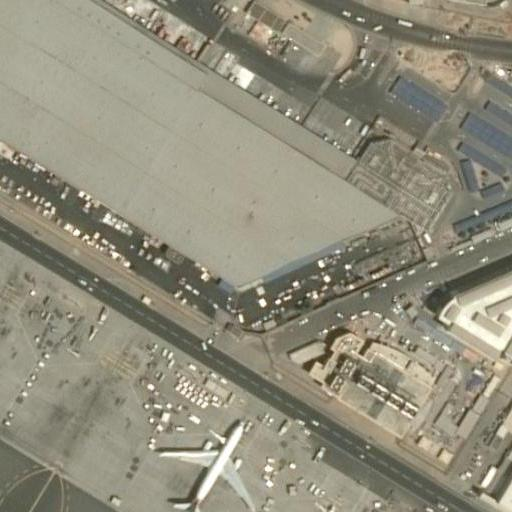Aircraft: (150, 413, 259, 512), (271, 502, 349, 512)
